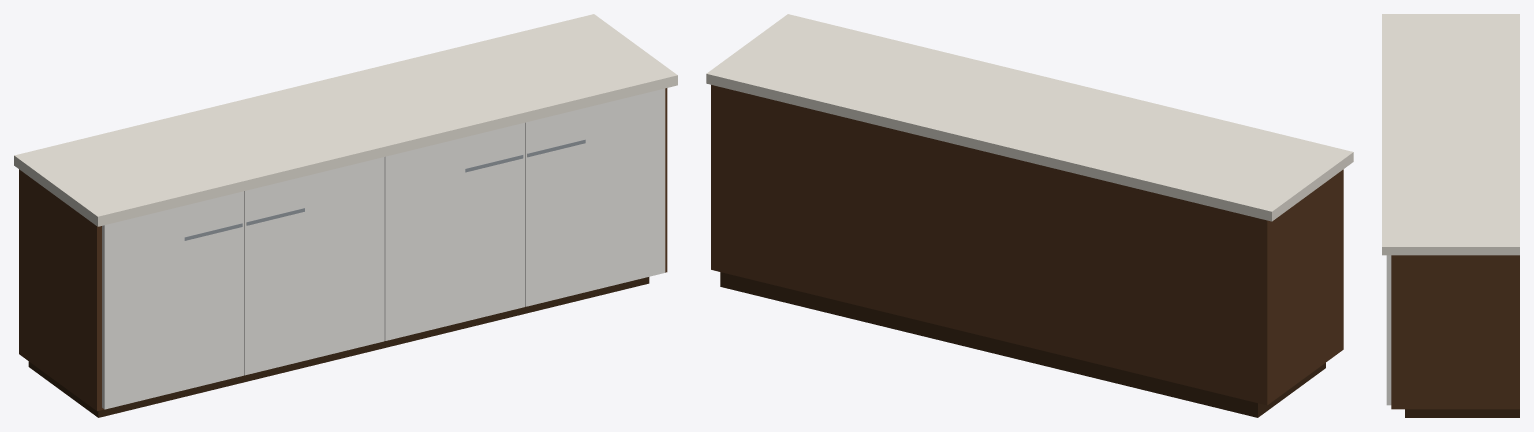
The model's file is kitchenbase.glb.
3 views of the same model, side by side, from view 1: azimuth 30°, elevation 25°; view 2: azimuth 150°, elevation 25°; view 3: azimuth 270°, elevation 25° (orthographic). The views are drawn at different scales.
Visible parts, largest first — view 1: material-1-door, material-0-top, material-2-body, material-4-base, material-3-metal; view 2: material-2-body, material-0-top, material-4-base; view 3: material-0-top, material-2-body, material-4-base, material-1-door.
Boxes of the visible parts, left/top/right/bottom form: material-1-door: left=102, top=88, right=665, bottom=409; material-0-top: left=14, top=14, right=677, bottom=226; material-2-body: left=19, top=88, right=667, bottom=411; material-4-base: left=28, top=277, right=649, bottom=417; material-3-metal: left=184, top=139, right=585, bottom=240; material-2-body: left=711, top=85, right=1343, bottom=405; material-0-top: left=706, top=14, right=1353, bottom=221; material-4-base: left=720, top=272, right=1325, bottom=417; material-0-top: left=1382, top=14, right=1519, bottom=255; material-2-body: left=1391, top=255, right=1519, bottom=409; material-4-base: left=1405, top=409, right=1519, bottom=417; material-1-door: left=1386, top=255, right=1391, bottom=405.
Size of the model in its own units: 2.4 by 0.85 by 0.6.
